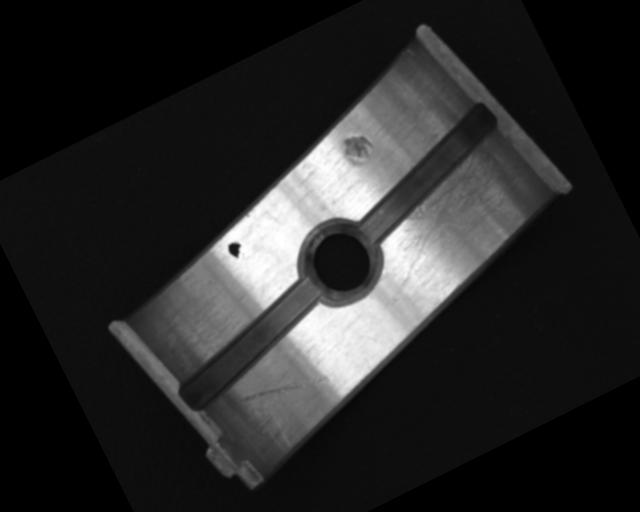blot: (224, 238, 247, 263)
bruise: (335, 128, 380, 172)
gap: (333, 100, 522, 248), (157, 272, 344, 415)
hole: (290, 211, 392, 313)
nick: (237, 358, 330, 421)
scratch: (360, 132, 548, 287)
